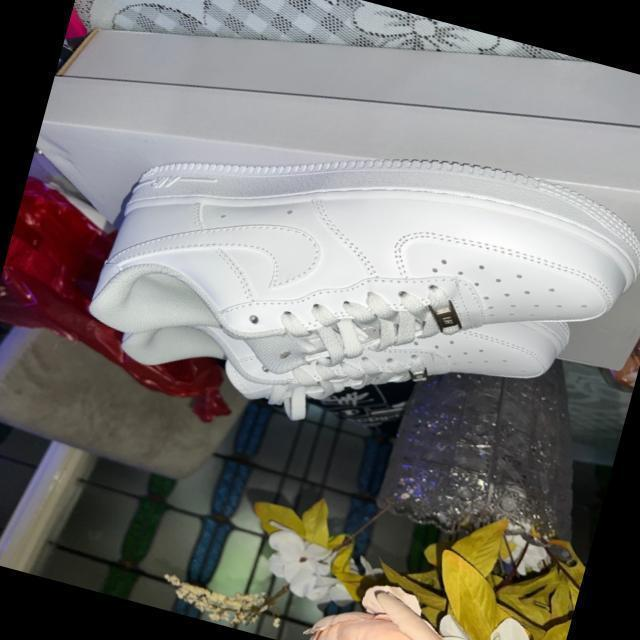nike original air force: (0, 45, 640, 465), (493, 547, 527, 568)
